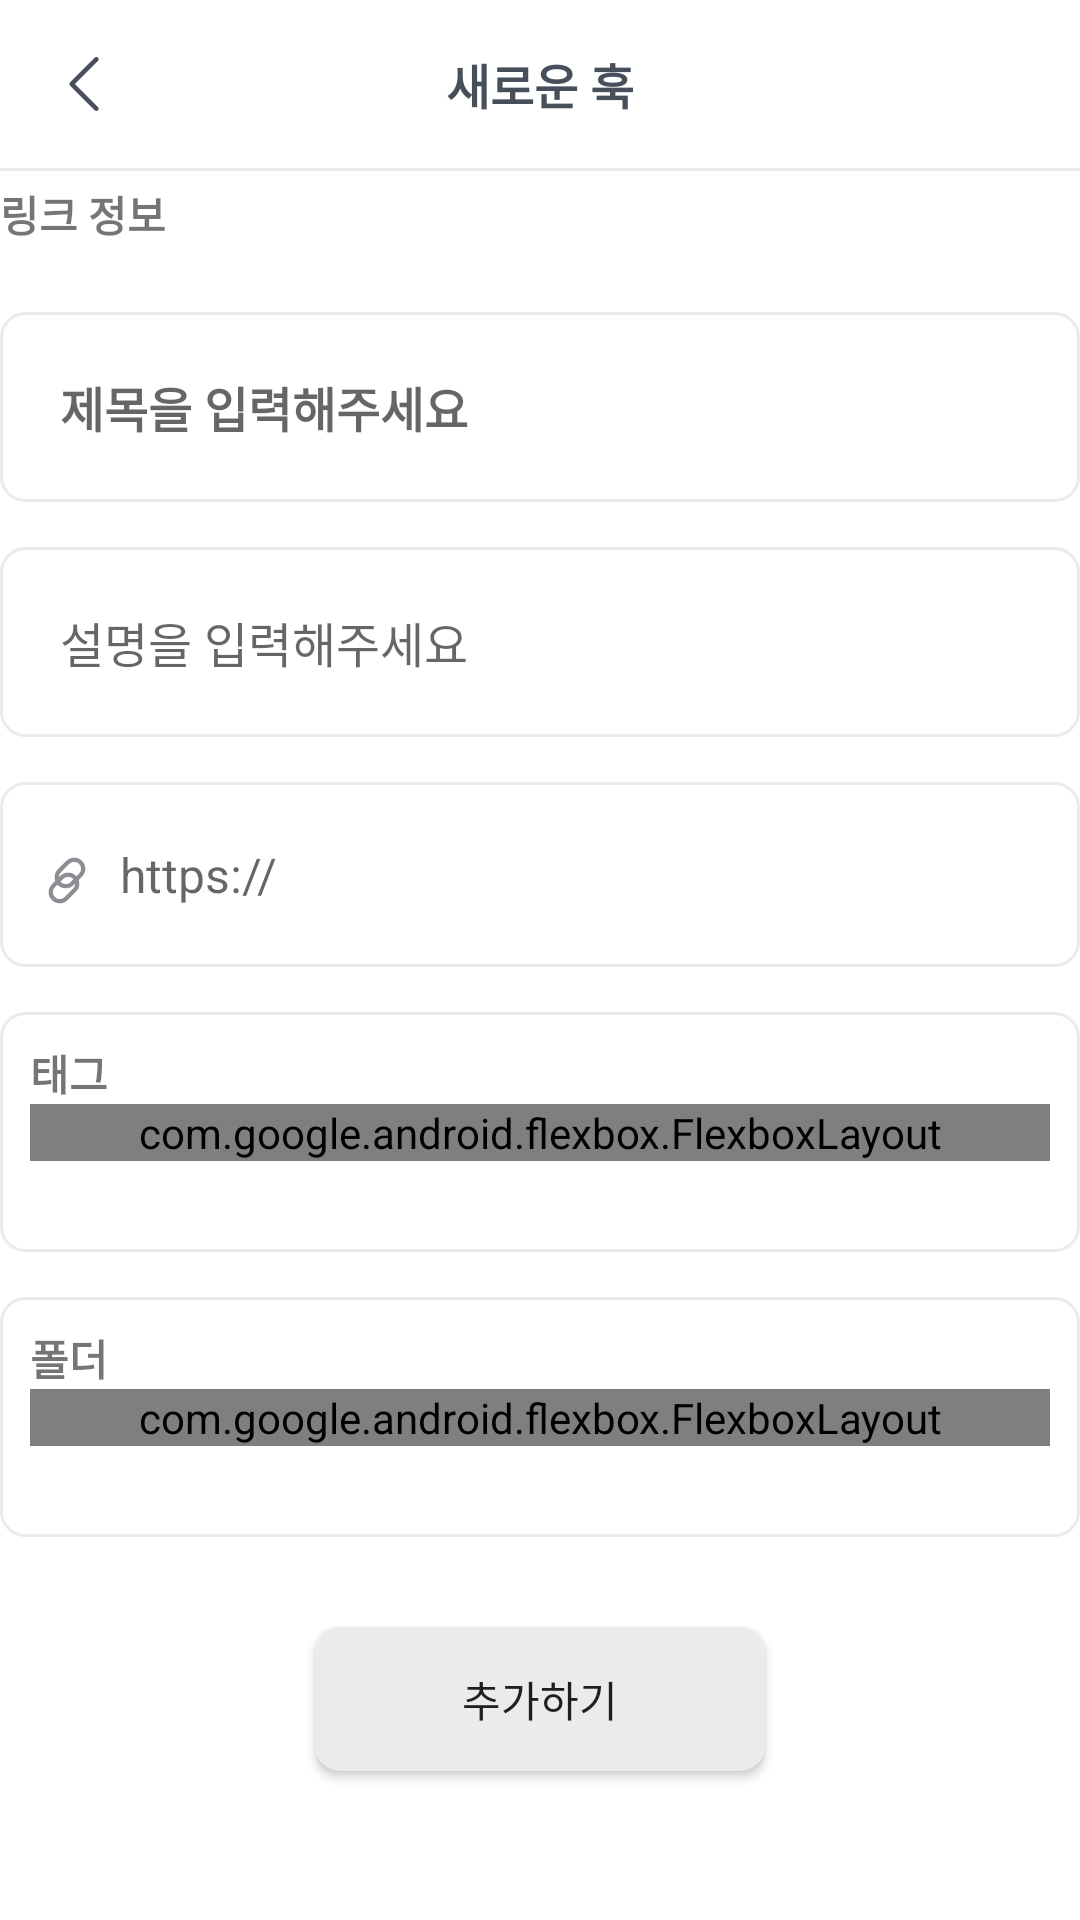

Icon bounding boxes for this 1080x1920 phone screenshot, format (x1, y1, x2, y2):
arrow back: (69, 57, 99, 111)
link: (48, 857, 86, 904)
